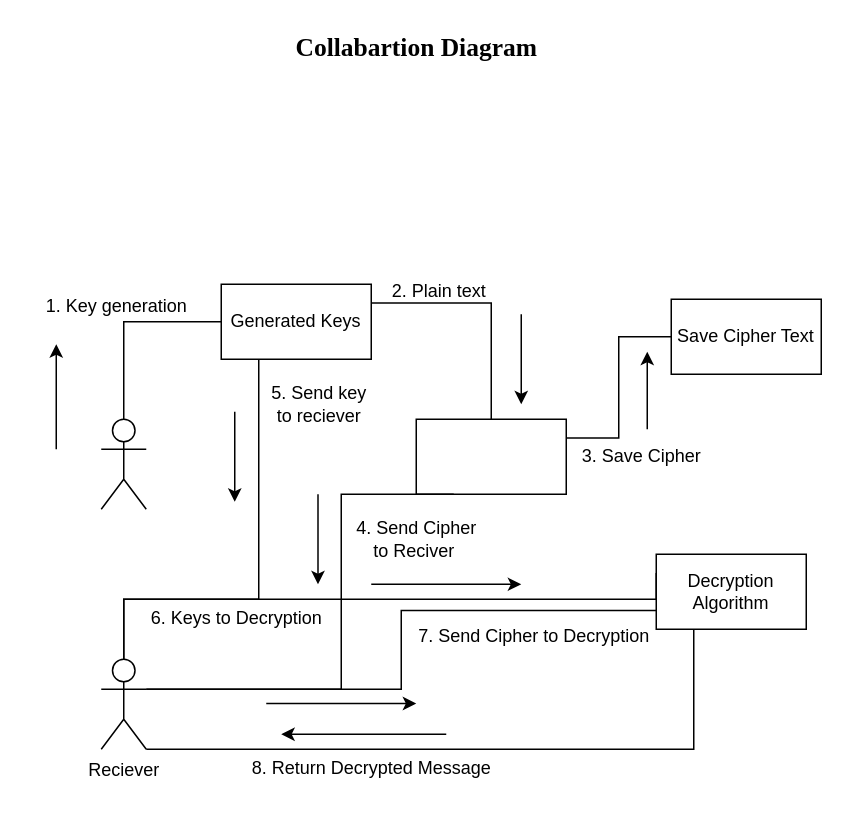
Some shapes in this 848 by 816 pixel diagram are drawn without their labels. Here are the shapes that lost their labels. From the top down, the centre of each, then its label:
At [123,463]: "Sender".
At [490,456]: "Encryption Algorithm".
